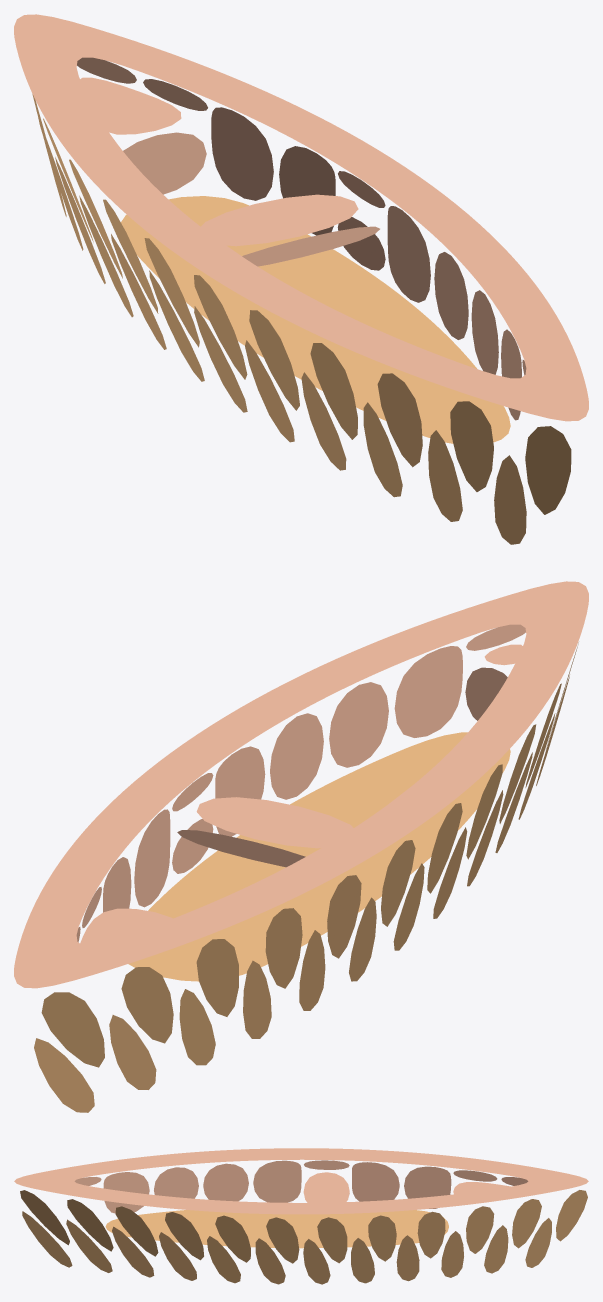
The model's file is canoe.glb.
3 views of the same model, one above another, from view 1: azimuth 30°, elevation 25°; view 2: azimuth 150°, elevation 25°; view 3: azimuth 270°, elevation 25° (orthographic). The views are drawn at different scales.
Visible parts, largest first — view 1: canoe; view 2: canoe; view 3: canoe.
Part boxes in pixels (x1,y1,x2,y2): canoe: [14, 14, 588, 544]; canoe: [14, 581, 588, 1112]; canoe: [14, 1148, 588, 1284].
Bounding box in the file's own units: 0.2972 × 0.1825 × 1.09.
